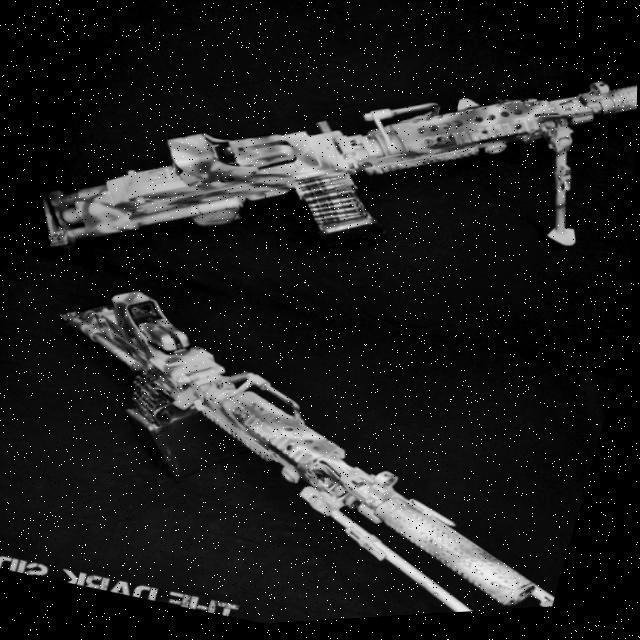firearm: (28, 0, 640, 397), (6, 253, 592, 638)
